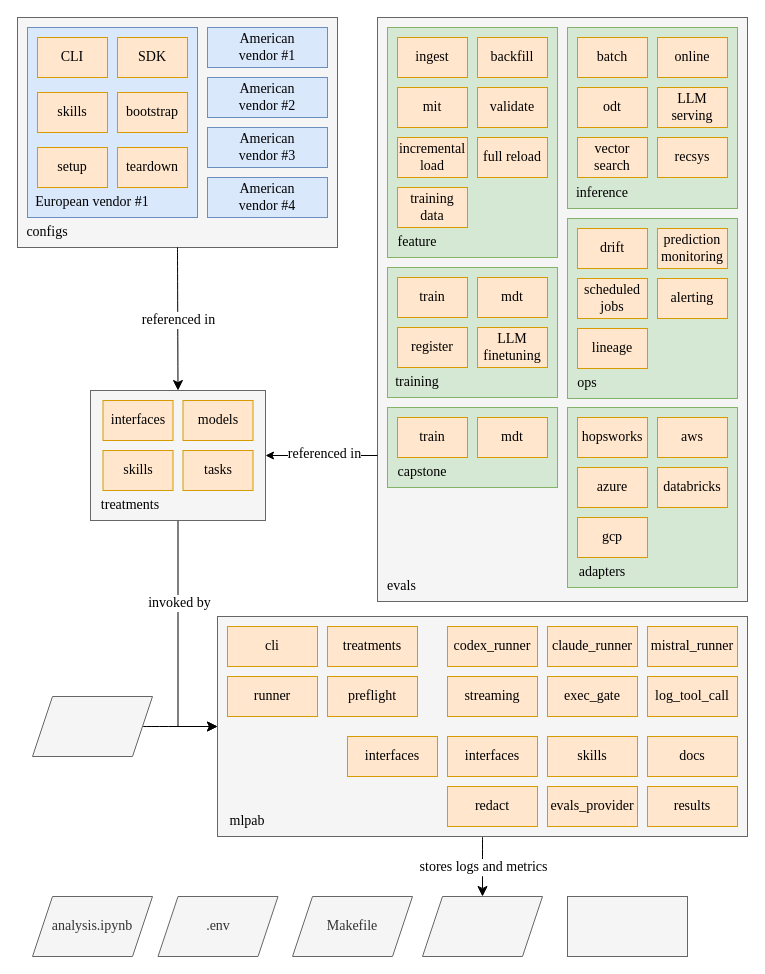
The diagram is 765 pixels wide and 974 high, and some of its shapes have lost their labels. The centre of each missing label's shape, as x and y in pixels:
"prompts/ agent.md" belongs at point 92,726.
"results.csv" belongs at point 482,926.
"tests" belongs at point 627,926.
